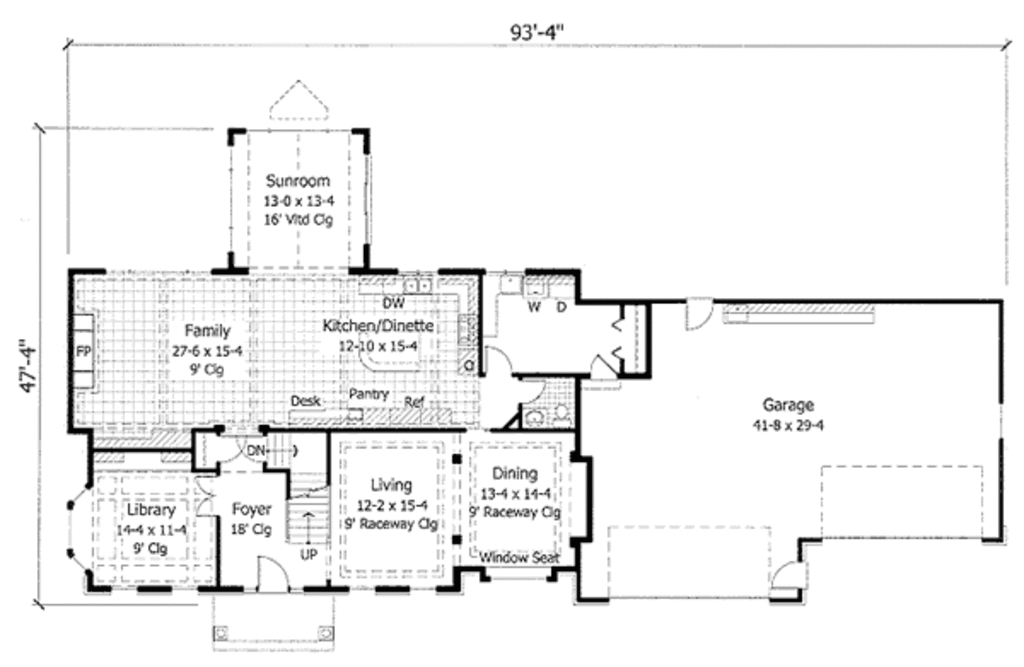door: (252, 554, 293, 593), (192, 468, 220, 523), (682, 298, 717, 336), (483, 343, 522, 375), (762, 560, 805, 589), (585, 354, 617, 381)
large_sink: (553, 403, 573, 428)
stairs: (258, 428, 327, 552)
twin_sink: (399, 269, 436, 295)
windows: (108, 581, 203, 596), (339, 584, 443, 593)
